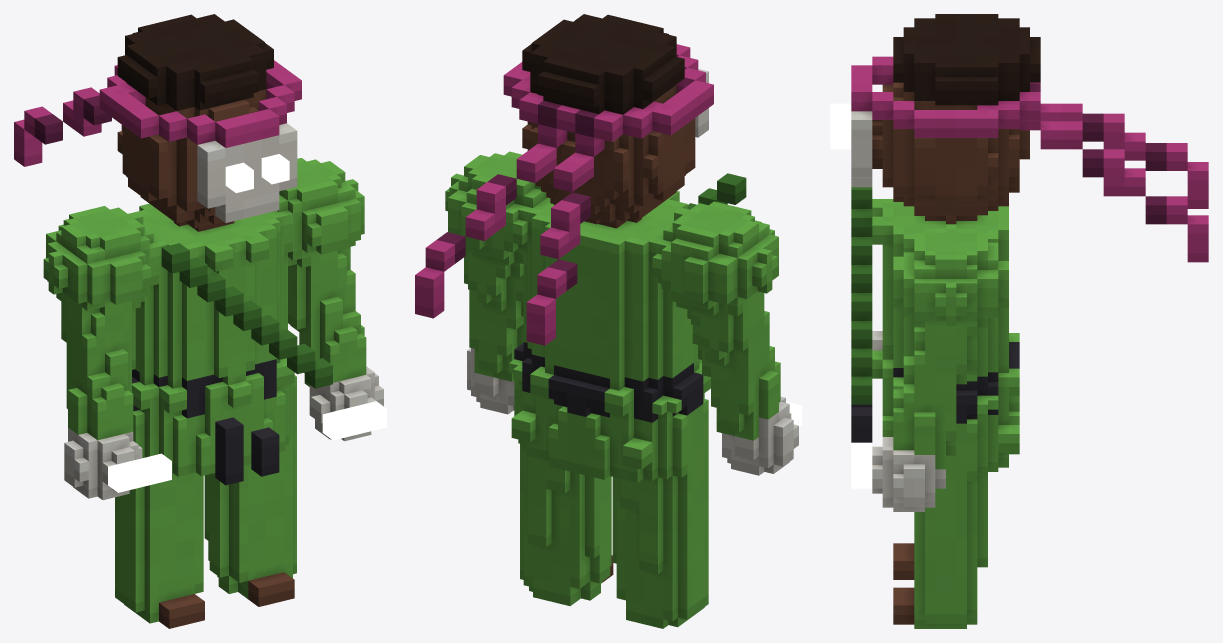
File: u_moine__tidiane.glb
The picture shows the model from 3 angles, left to right: view 1: azimuth 30°, elevation 25°; view 2: azimuth 150°, elevation 25°; view 3: azimuth 270°, elevation 25°; orthographic projection. The views are drawn at different scales.
Parts seen in each view (by area): view 1: moine_body, moine_glow; view 2: moine_body; view 3: moine_body, moine_glow.
Boxes of the visible parts, box(x1,y1,x2,y2) form: moine_body: box(14, 14, 383, 628); moine_glow: box(108, 154, 386, 492); moine_body: box(415, 14, 798, 628); moine_body: box(851, 14, 1208, 628); moine_glow: box(830, 103, 872, 488).
Bounding box in the file's own units: 0.85 × 1.45 × 0.9.
